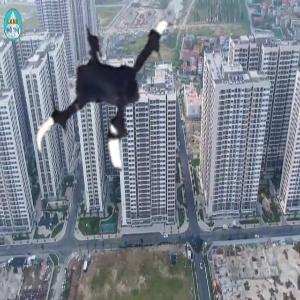drone: (19, 6, 211, 198)
